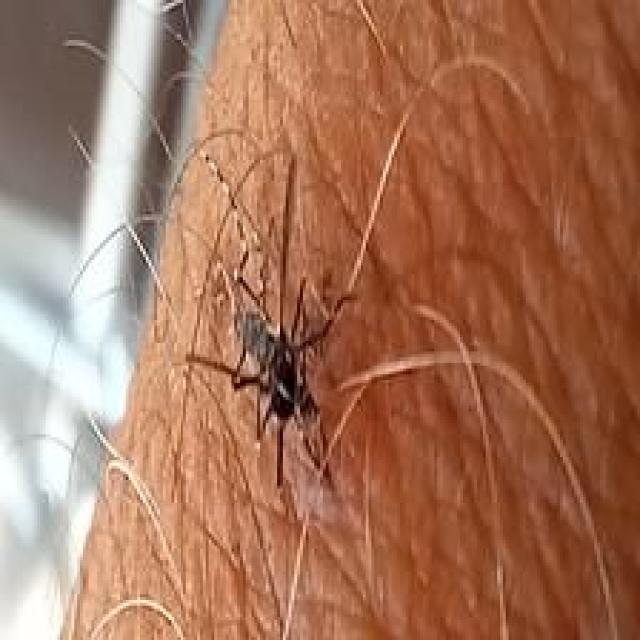Aedes albopictus: (184, 272, 356, 488)
